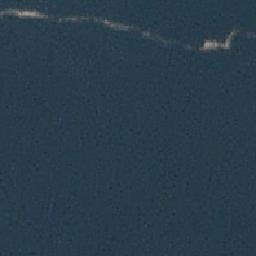debris: (1, 7, 49, 21), (199, 39, 232, 52), (51, 12, 88, 20), (101, 19, 124, 30), (137, 28, 150, 39)
